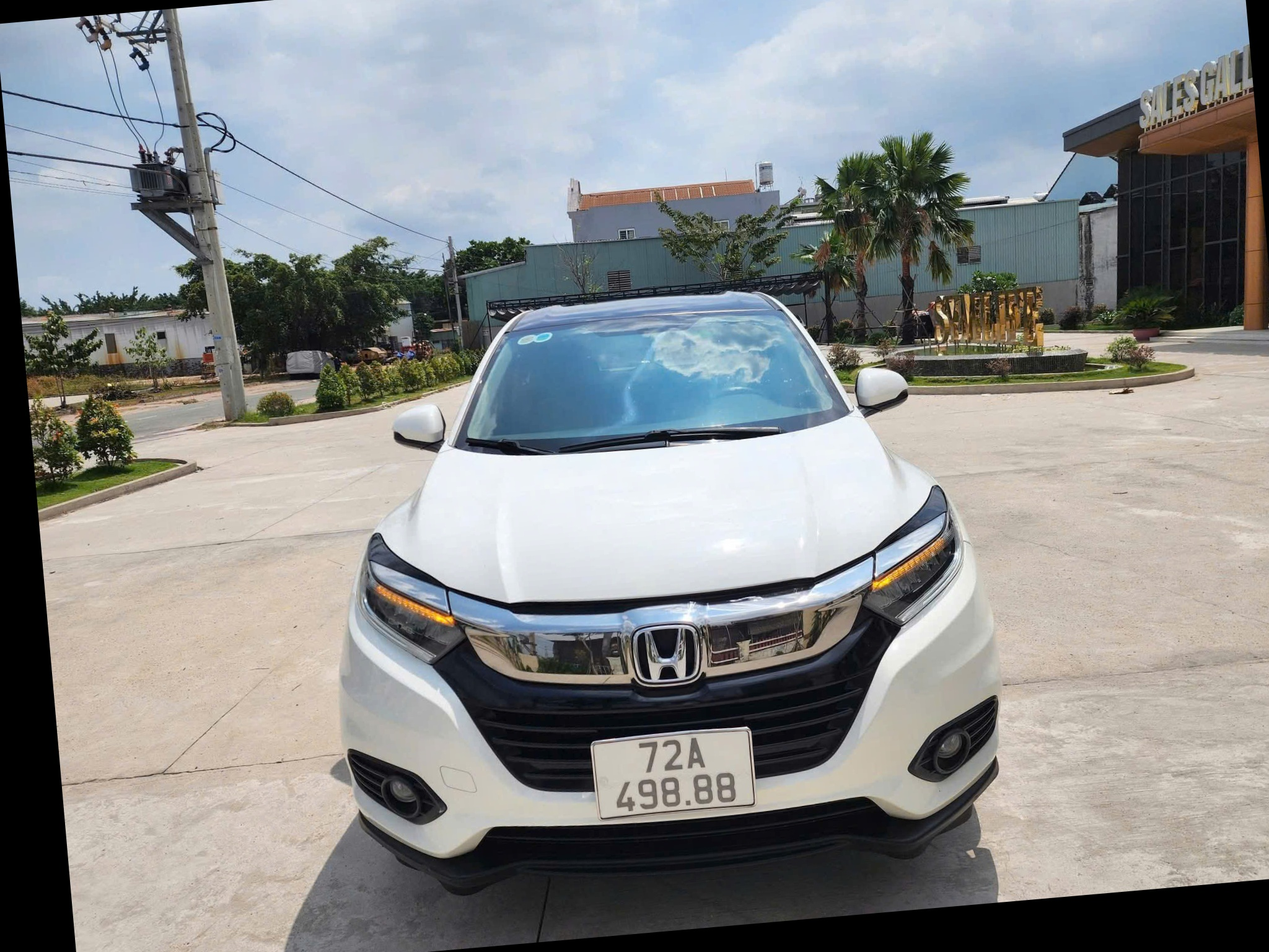Bien-so: (554, 755, 735, 868)
